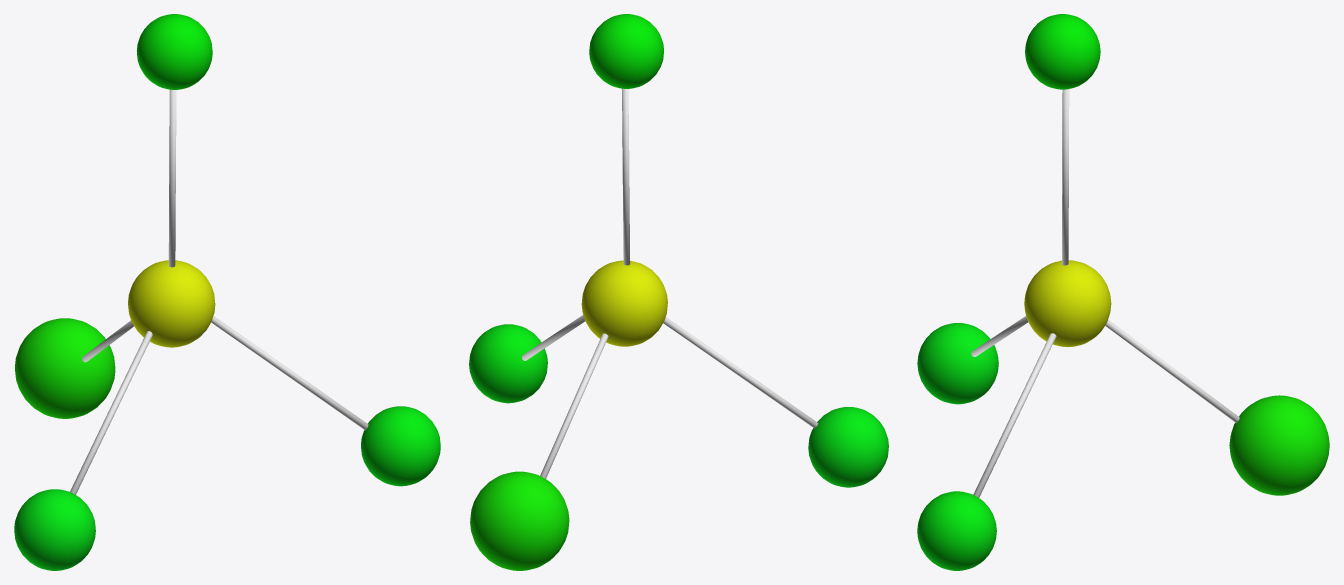
The model's file is methane.glb.
3 views of the same model, side by side, from view 1: azimuth 30°, elevation 25°; view 2: azimuth 150°, elevation 25°; view 3: azimuth 270°, elevation 25° (orthographic).
Visible parts, largest first — view 1: Sphere.002, Sphere.004, Sphere.001, Sphere, Sphere.003, Cylinder.001, Cylinder, Cylinder.003; view 2: Sphere.002, Sphere.004, Sphere.001, Sphere, Sphere.003, Cylinder, Cylinder.003, Cylinder.002, Cylinder.001; view 3: Sphere.002, Sphere.004, Sphere.001, Sphere, Sphere.003, Cylinder.001, Cylinder.003, Cylinder.002.
Part boxes in pixels (bbox=[...]): Sphere.002: bbox=[15, 318, 115, 418]; Sphere.004: bbox=[128, 260, 215, 347]; Sphere.001: bbox=[14, 489, 95, 570]; Sphere: bbox=[361, 406, 440, 486]; Sphere.003: bbox=[137, 14, 212, 89]; Cylinder.001: bbox=[211, 316, 368, 430]; Cylinder: bbox=[70, 331, 152, 494]; Cylinder.003: bbox=[168, 89, 176, 267]; Sphere.002: bbox=[470, 471, 569, 570]; Sphere.004: bbox=[581, 260, 667, 346]; Sphere.001: bbox=[808, 407, 888, 487]; Sphere: bbox=[469, 324, 547, 403]; Sphere.003: bbox=[589, 14, 663, 88]; Cylinder: bbox=[663, 317, 818, 428]; Cylinder.003: bbox=[622, 88, 630, 265]; Cylinder.002: bbox=[540, 333, 608, 478]; Cylinder.001: bbox=[522, 315, 585, 360]; Sphere.002: bbox=[1229, 395, 1329, 495]; Sphere.004: bbox=[1024, 260, 1111, 347]; Sphere.001: bbox=[917, 323, 998, 404]; Sphere: bbox=[917, 491, 996, 570]; Sphere.003: bbox=[1025, 14, 1100, 89]; Cylinder.001: bbox=[973, 333, 1056, 497]; Cylinder.003: bbox=[1062, 89, 1069, 265]; Cylinder.002: bbox=[1105, 320, 1239, 423].
Size of the model in its own units: 1.19 by 1.31 by 1.03.
